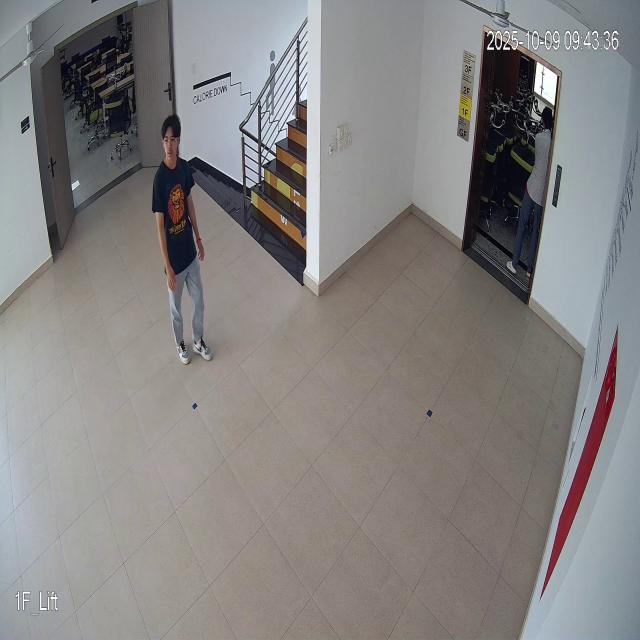face: (156, 110, 182, 178)
